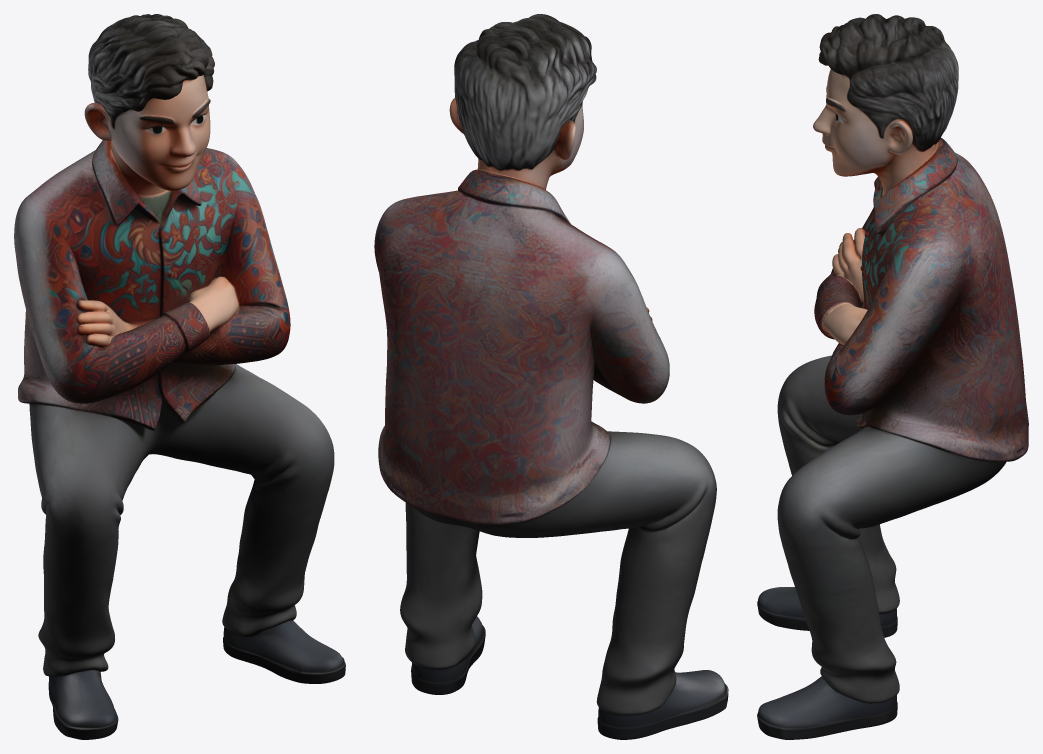
The model's file is Hendika_AI_Engginer.fbx.
3 views of the same model, side by side, from view 1: azimuth 30°, elevation 25°; view 2: azimuth 150°, elevation 25°; view 3: azimuth 270°, elevation 25° (orthographic). The views are drawn at different scales.
Parts seen in each view (by area): view 1: tripo_node_11a4ba2d; view 2: tripo_node_11a4ba2d; view 3: tripo_node_11a4ba2d.
Boxes of the visible parts, <box> form: tripo_node_11a4ba2d: <box>14,14,345,739</box>; tripo_node_11a4ba2d: <box>374,14,728,739</box>; tripo_node_11a4ba2d: <box>757,14,1028,739</box>.
Bounding box in the file's own units: 0.4548 × 1 × 0.3778.
